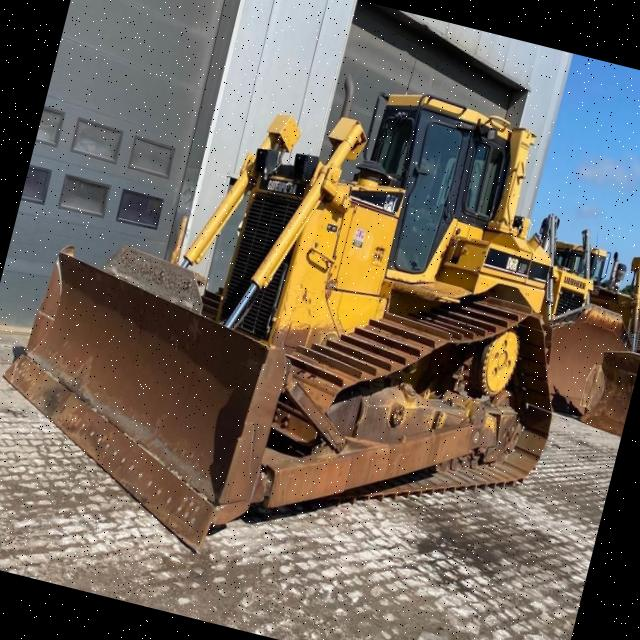Bulldozer: (0, 0, 629, 623)
